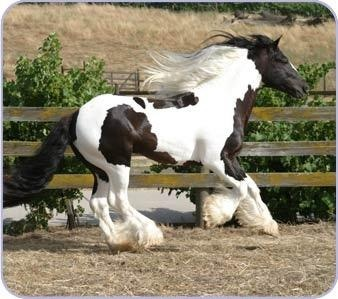horse: (3, 29, 308, 251)
